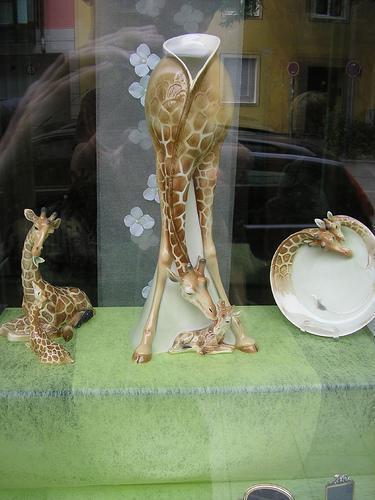hand: (15, 25, 162, 181)
